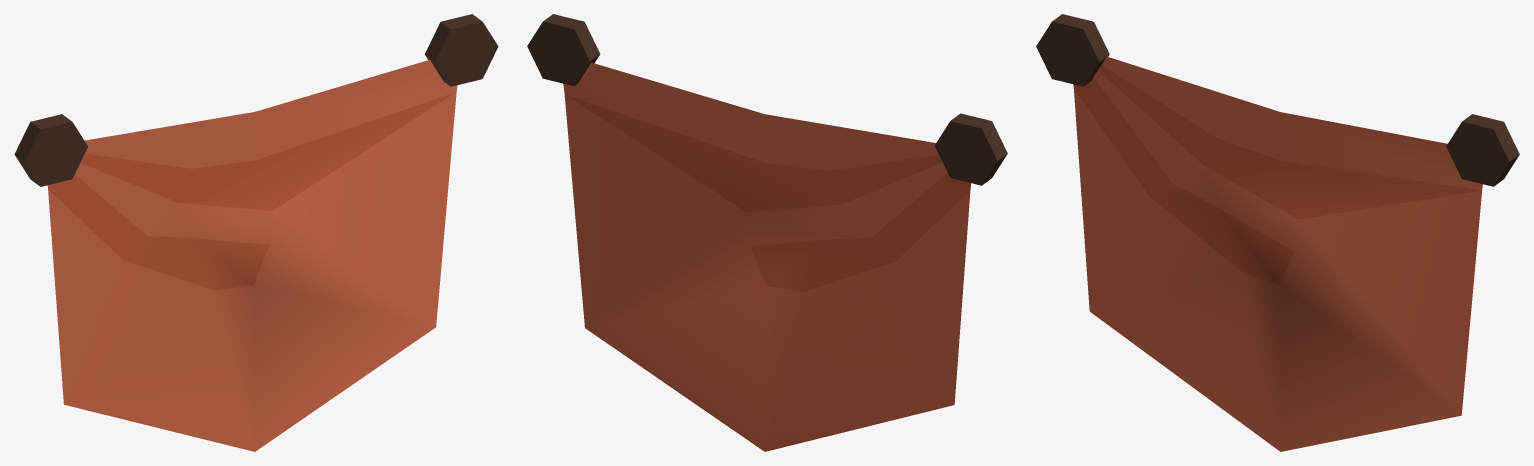
3 renders of one model, left to right at view 1: azimuth 30°, elevation 25°; view 2: azimuth 150°, elevation 25°; view 3: azimuth 330°, elevation 25°, orthographic.
Visible parts, largest first — view 1: co; view 2: co; view 3: co.
Boxes of the visible parts, x1,y1,x2,y2 form: co: [14, 14, 498, 451]; co: [527, 14, 1007, 451]; co: [1036, 14, 1519, 451].
Size of the model in its own units: 212 by 163 by 8.03.
